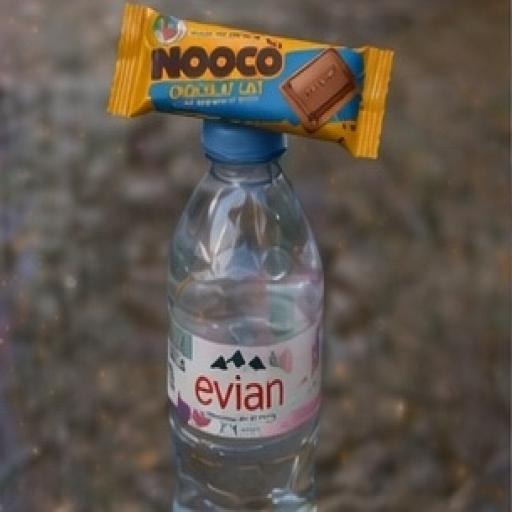biscuit-detection: (107, 0, 409, 183)
